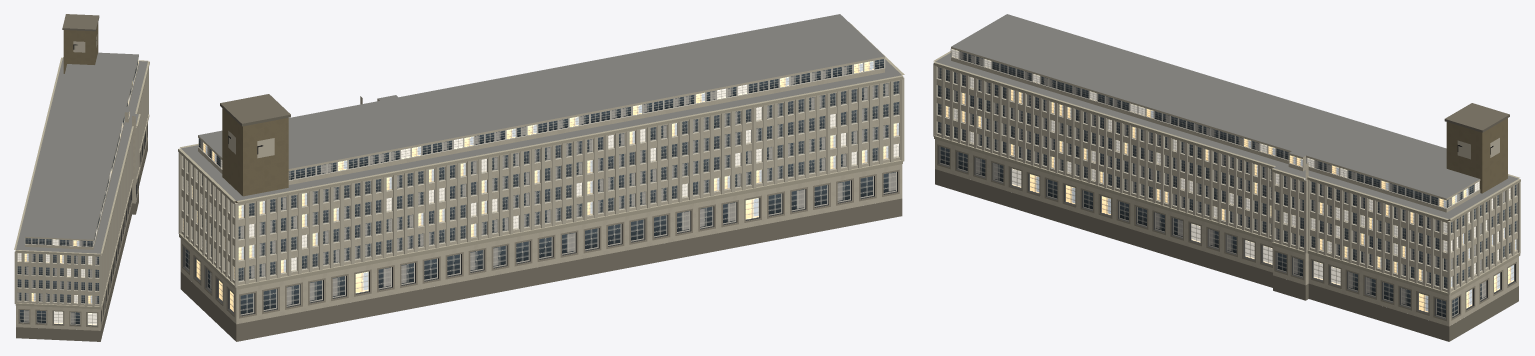
File: sihlpost.glb
The picture shows the model from 3 angles, left to right: view 1: azimuth 30°, elevation 25°; view 2: azimuth 150°, elevation 25°; view 3: azimuth 270°, elevation 25°; orthographic projection. The views are drawn at different scales.
Parts seen in each view (by area): view 1: sihlpost; view 2: sihlpost; view 3: sihlpost.
Part boxes in pixels (left/top/right/bottom): sihlpost: left=14, top=14, right=149, bottom=341; sihlpost: left=178, top=14, right=904, bottom=341; sihlpost: left=933, top=14, right=1520, bottom=341.
Bounding box in the file's own units: 91.87 × 40.04 × 114.
Materials: 3 (3 with a texture image).
